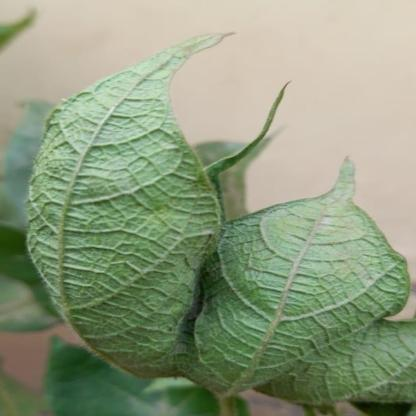curl_stage2: (50, 118, 192, 255), (193, 313, 416, 397), (222, 224, 400, 323), (71, 229, 189, 355), (106, 59, 171, 117), (77, 87, 166, 114)
